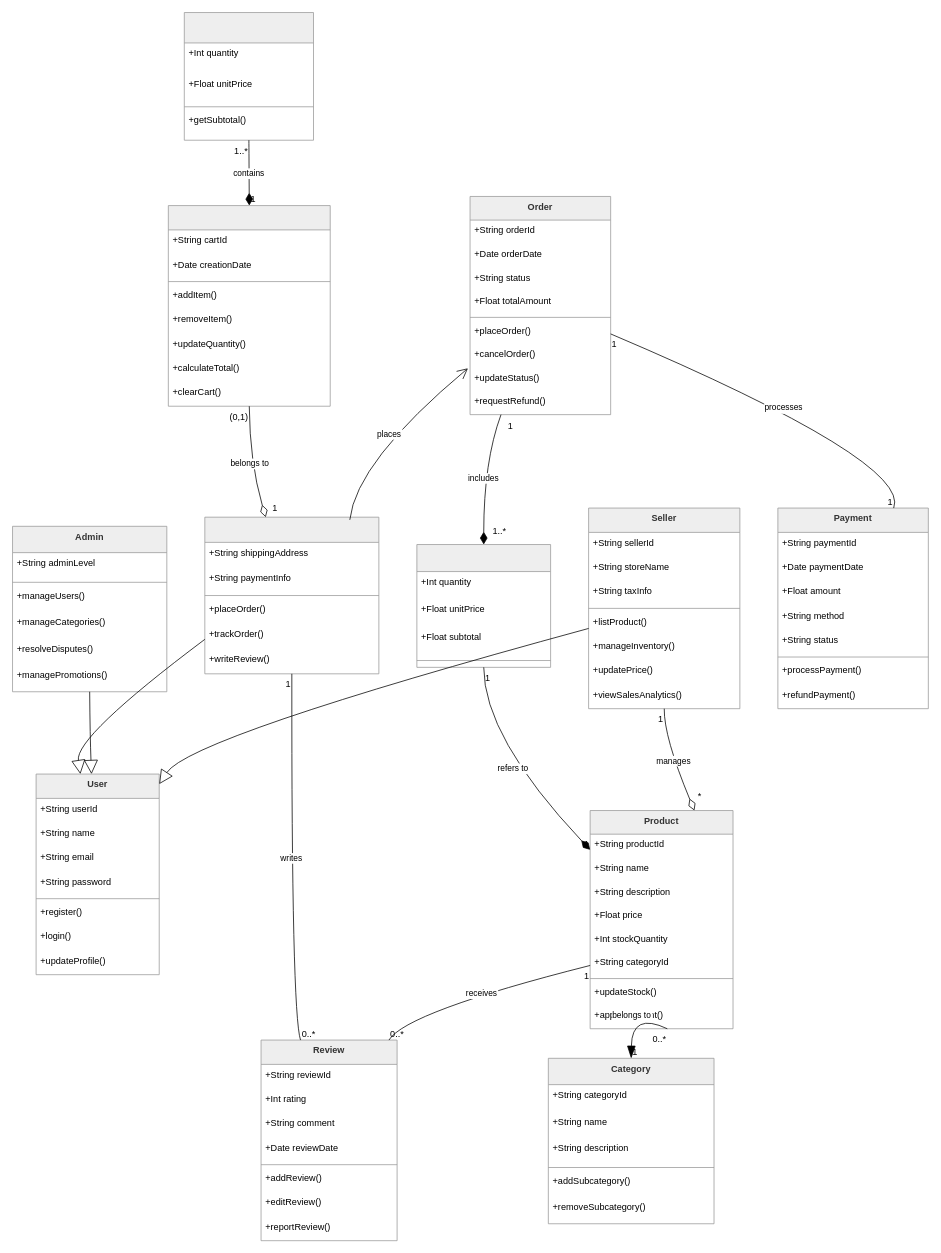
This 941x1253 diagram has some shape labels left out. The box of each missing label's shape, as (x1, y1, x2, y2) in pixels:
CartItem: (184, 12, 314, 140)
Customer: (204, 516, 379, 674)
OrderItem: (416, 544, 551, 667)
ShoppingCart: (168, 205, 330, 406)
